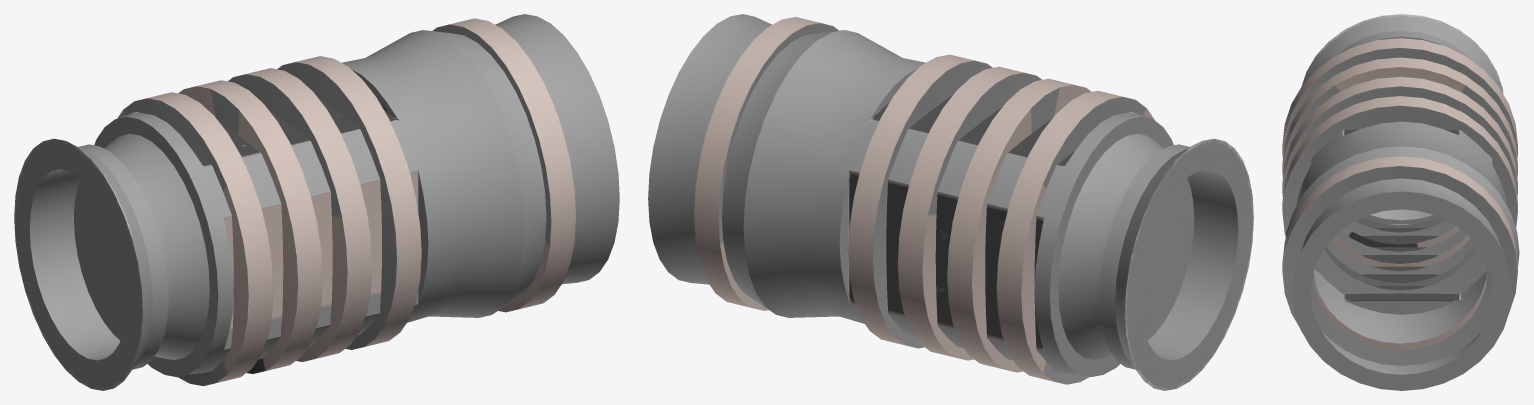
Rendered from pommel_13_c_c.glb.
3 renders of one model, left to right at view 1: azimuth 30°, elevation 25°; view 2: azimuth 150°, elevation 25°; view 3: azimuth 270°, elevation 25°, orthographic. The views are drawn at different scales.
Visible parts, largest first — view 1: pommel_13_c_c_lod0; view 2: pommel_13_c_c_lod0; view 3: pommel_13_c_c_lod0.
Part boxes in pixels (bbox=[...]): pommel_13_c_c_lod0: bbox=[14, 14, 619, 390]; pommel_13_c_c_lod0: bbox=[648, 14, 1253, 390]; pommel_13_c_c_lod0: bbox=[1282, 14, 1519, 390].
Size of what is drawn, in the model's own units: 0.0574 by 0.031 by 0.0312.
1 material, 1 textured.
